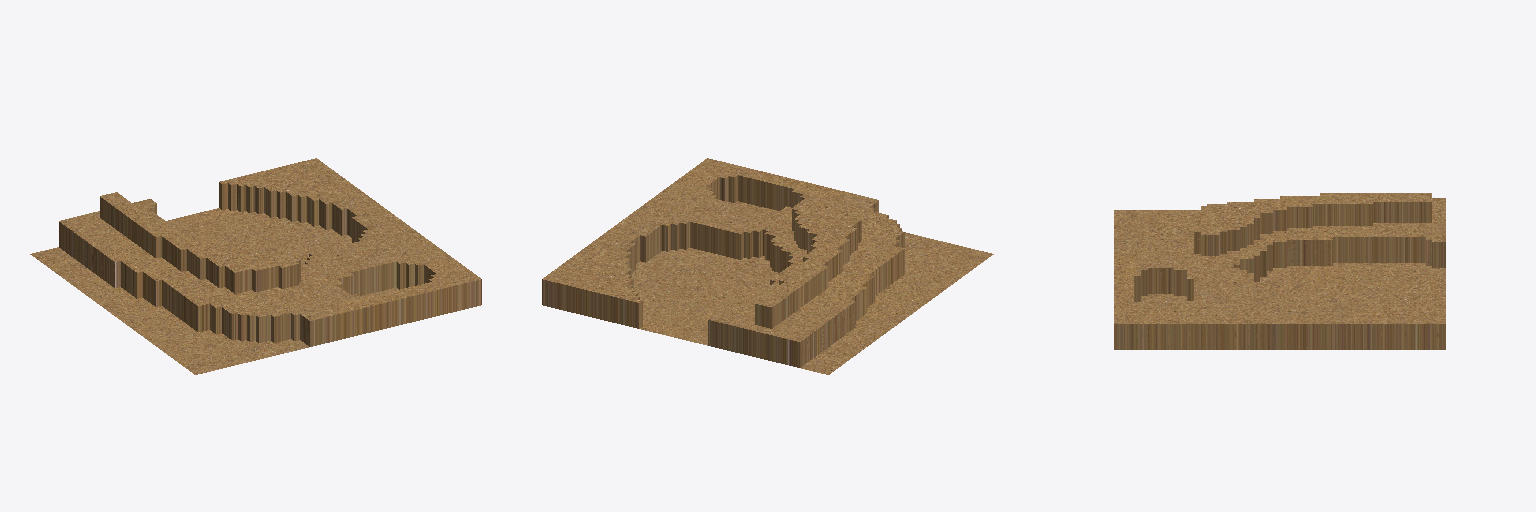
3 views of the same model, side by side, from view 1: azimuth 30°, elevation 25°; view 2: azimuth 150°, elevation 25°; view 3: azimuth 270°, elevation 25° (orthographic).
Parts seen in each view (by area): view 1: Plane; view 2: Plane; view 3: Plane.
Boxes of the visible parts, <box> form: Plane: <box>30,158,481,374</box>; Plane: <box>542,158,993,374</box>; Plane: <box>1114,193,1445,349</box>.
Size of the model in its own units: 10.01 by 1.58 by 10.01.
Materials: 1 (1 with a texture image).